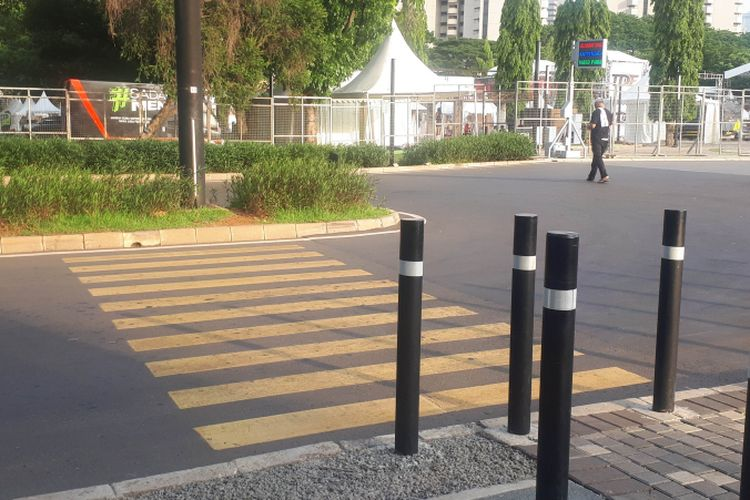bollard: (536, 226, 583, 500), (396, 218, 422, 456), (654, 206, 681, 418), (510, 212, 532, 438)
zebracross: (134, 252, 395, 405)
